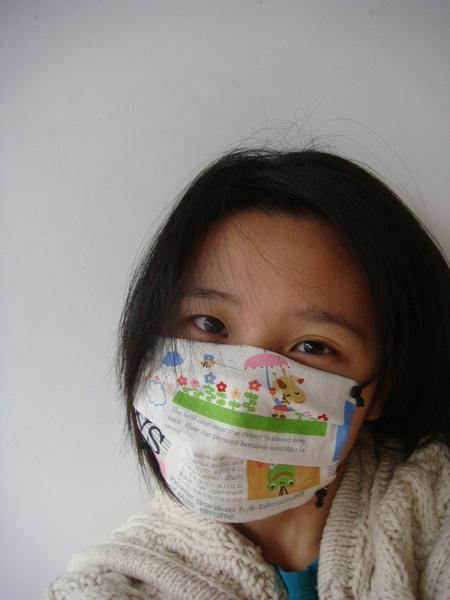OK: (141, 268, 384, 511)
